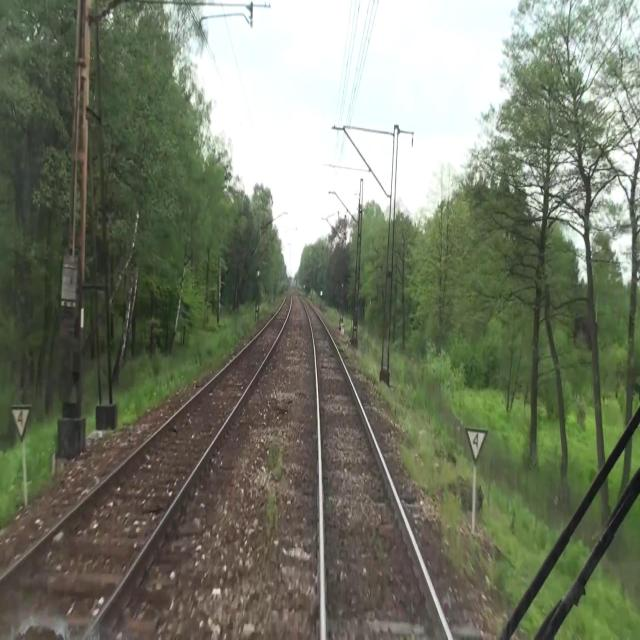rail-track: (0, 293, 290, 639), (301, 296, 447, 639)
